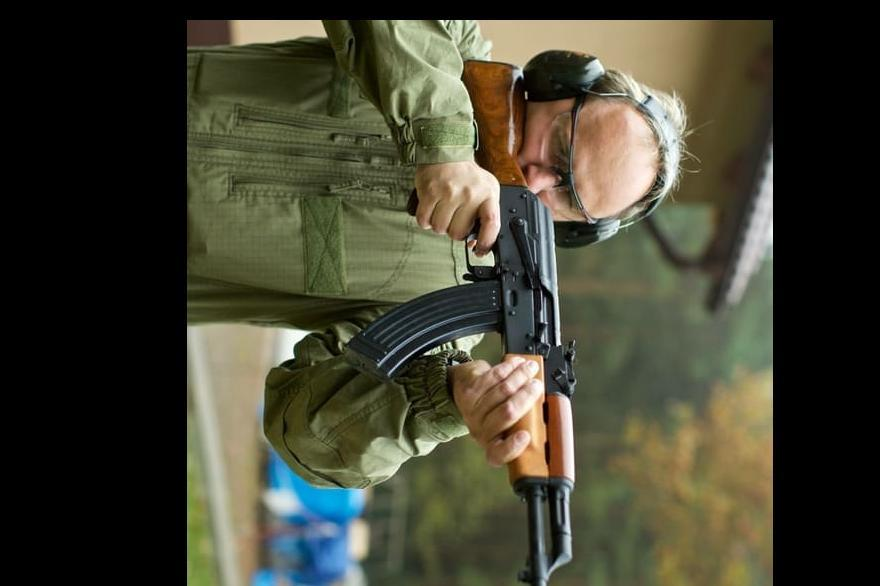larga: (343, 58, 580, 586)
